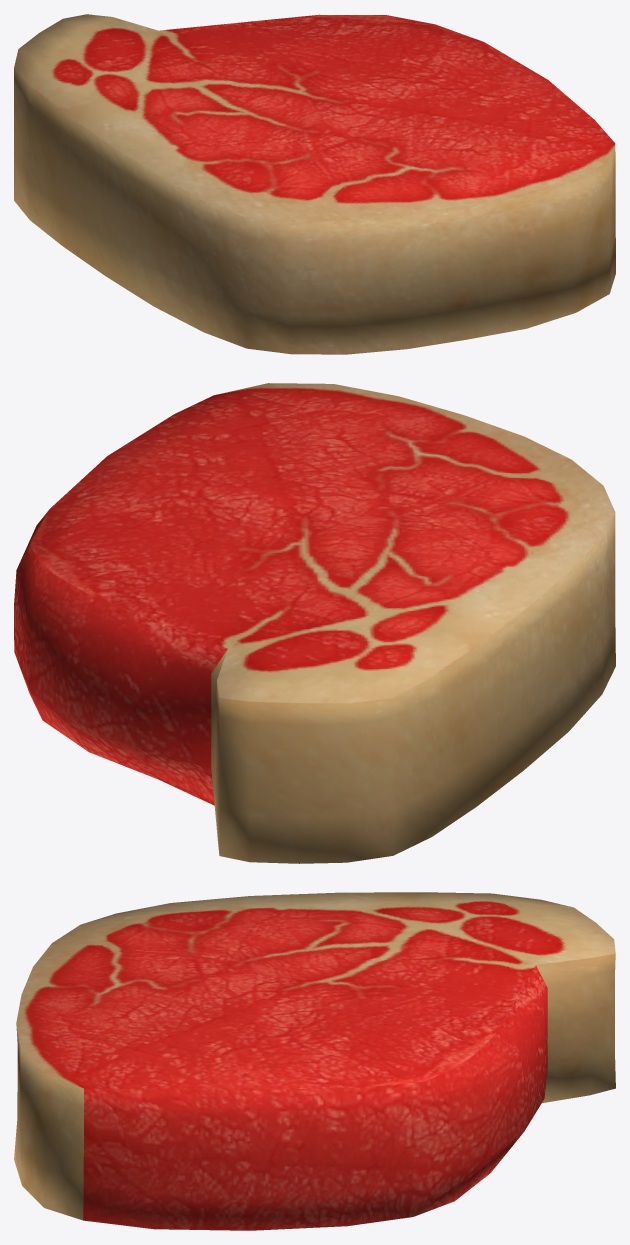
Rendered from Meat_Raw.fbx.
3 views of the same model, one above another, from view 1: azimuth 30°, elevation 25°; view 2: azimuth 150°, elevation 25°; view 3: azimuth 270°, elevation 25° (orthographic). The views are drawn at different scales.
Parts seen in each view (by area): view 1: Meat_Raw; view 2: Meat_Raw; view 3: Meat_Raw.
Part boxes in pixels (left/top/right/bottom): Meat_Raw: left=14, top=14, right=615, bottom=354; Meat_Raw: left=14, top=383, right=615, bottom=863; Meat_Raw: left=14, top=892, right=615, bottom=1230.
Bounding box in the file's own units: 0.6234 × 0.2019 × 0.7641.
1 material, 1 textured.
